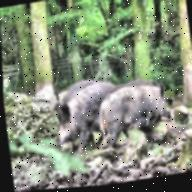boar: (71, 48, 192, 167), (47, 71, 134, 164)
